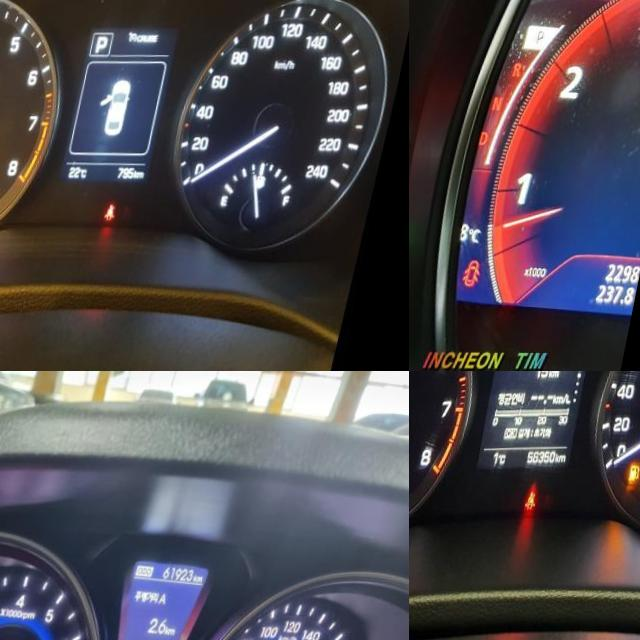Doors: (480, 257, 503, 285)
